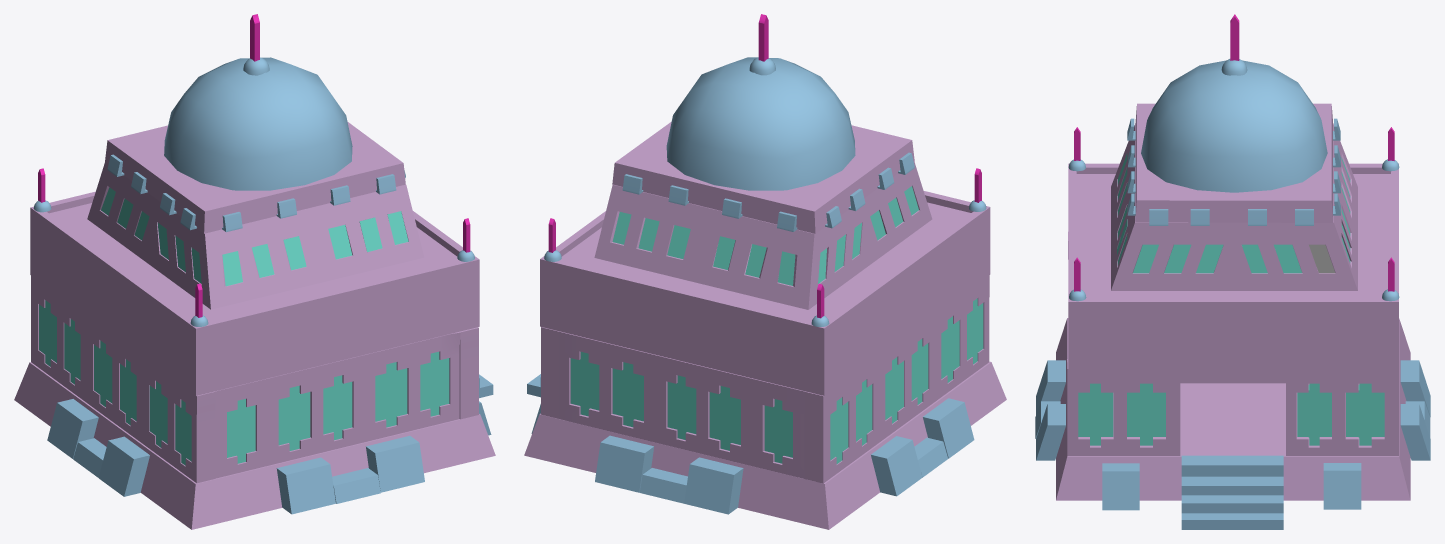
The model's file is TempleExterior_Colour3.fbx.
3 renders of one model, left to right at view 1: azimuth 30°, elevation 25°; view 2: azimuth 150°, elevation 25°; view 3: azimuth 270°, elevation 25°, orthographic.
Parts seen in each view (by area): view 1: Top, Dome, TopWindows, Base, Temple1, polySurface18, polySurface17, polySurface12, polySurface11, polySurface16, polySurface10, pCube23 (+19 smaller); view 2: Top, TopWindows, Dome, Base, Temple1, polySurface13, polySurface14, polySurface10, polySurface11, polySurface12, polySurface15, pCube20 (+18 smaller); view 3: Top, Dome, Base, TopWindows, Temple1, Stairs, polySurface9, polySurface5, pCube48, pCube46, pCube25, pCube24 (+13 smaller).
Boxes of the visible parts, left/top/right/bottom form: Top: left=30, top=191, right=479, bottom=395; Dome: left=164, top=57, right=352, bottom=190; TopWindows: left=87, top=161, right=424, bottom=309; Base: left=14, top=362, right=495, bottom=529; Temple1: left=105, top=122, right=405, bottom=233; polySurface18: left=362, top=331, right=460, bottom=442; polySurface17: left=266, top=355, right=362, bottom=466; polySurface12: left=142, top=357, right=215, bottom=483; polySurface11: left=85, top=315, right=141, bottom=442; polySurface16: left=215, top=379, right=266, bottom=478; polySurface10: left=31, top=275, right=85, bottom=401; pCube23: left=276, top=457, right=335, bottom=514; Top: left=540, top=191, right=990, bottom=395; TopWindows: left=594, top=161, right=932, bottom=309; Dome: left=666, top=57, right=855, bottom=190; Base: left=524, top=361, right=1006, bottom=529; Temple1: left=612, top=122, right=914, bottom=233; polySurface13: left=559, top=331, right=656, bottom=442; polySurface14: left=656, top=355, right=753, bottom=466; polySurface10: left=804, top=356, right=878, bottom=483; polySurface11: left=878, top=316, right=934, bottom=442; polySurface12: left=934, top=275, right=989, bottom=401; polySurface15: left=753, top=379, right=804, bottom=478; pCube20: left=684, top=457, right=743, bottom=514; Top: left=1068, top=163, right=1398, bottom=368; Dome: left=1141, top=60, right=1327, bottom=192; Base: left=1056, top=318, right=1410, bottom=500; TopWindows: left=1111, top=124, right=1357, bottom=290; Temple1: left=1135, top=103, right=1333, bottom=222; Stairs: left=1181, top=455, right=1283, bottom=529; polySurface9: left=1067, top=360, right=1180, bottom=455; polySurface5: left=1286, top=369, right=1398, bottom=455; pCube48: left=1346, top=383, right=1384, bottom=445; pCube46: left=1127, top=383, right=1165, bottom=445; pCube25: left=1323, top=463, right=1361, bottom=509; pCube24: left=1102, top=463, right=1139, bottom=510.
Size of the model in its own units: 15.5 by 16 by 13.9.
